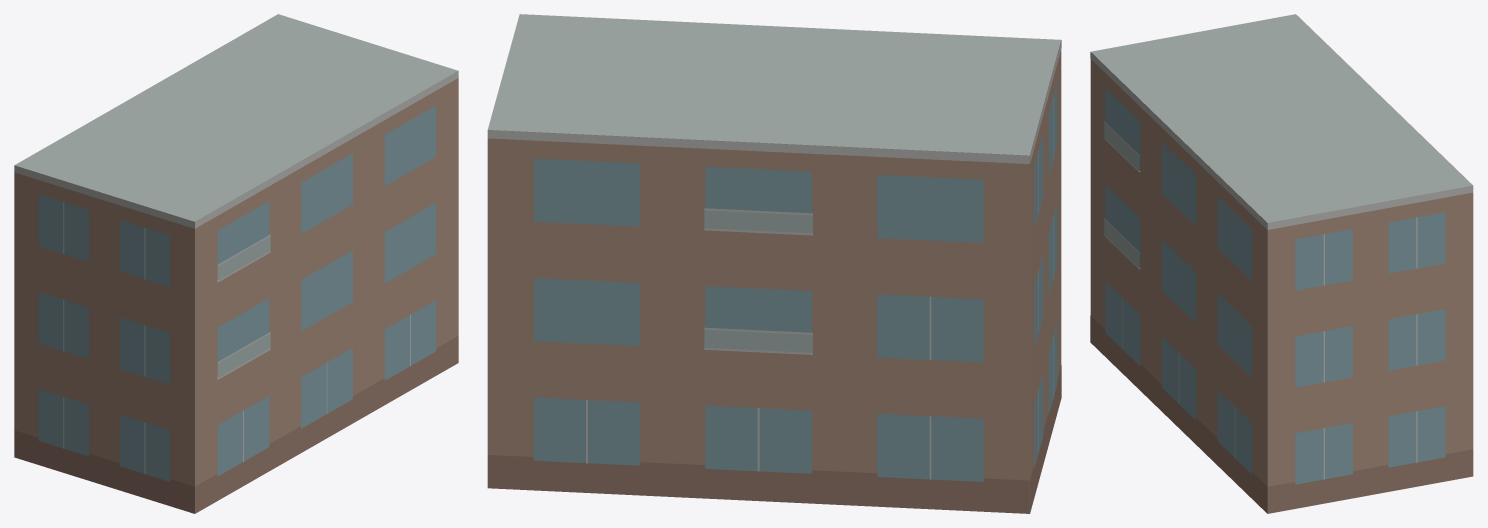
The model's file is survey-upis-32680078.glb.
3 renders of one model, left to right at view 1: azimuth 30°, elevation 25°; view 2: azimuth 150°, elevation 25°; view 3: azimuth 270°, elevation 25°, orthographic. The views are drawn at different scales.
Visible parts, largest first — view 1: survey-upis-32680078.tmp; view 2: survey-upis-32680078.tmp; view 3: survey-upis-32680078.tmp.
Boxes of the visible parts, x1,y1,x2,y2 form: survey-upis-32680078.tmp: (14, 14, 458, 513); survey-upis-32680078.tmp: (487, 14, 1061, 513); survey-upis-32680078.tmp: (1090, 14, 1473, 513).
Size of the model in its own units: 15.73 by 10.2 by 12.17.
